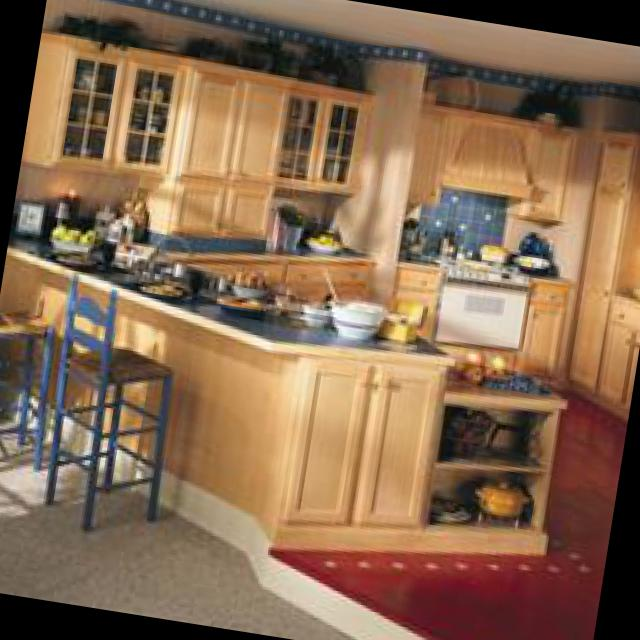bottle crop: (437, 226, 457, 255)
bottles occluded: (92, 196, 131, 238)
bowl -X: (328, 299, 383, 336), (223, 273, 267, 298), (284, 302, 329, 325), (303, 227, 341, 252)
box contants: (371, 294, 424, 340)
cabinet door: (265, 343, 443, 550), (564, 132, 640, 416), (407, 103, 573, 219), (512, 275, 567, 378), (395, 259, 435, 329)
cabinets: (22, 28, 374, 249)
ceiling beam: (186, 0, 640, 88)
chair -occluded-: (38, 274, 168, 532), (0, 302, 51, 467)
coffee maker: (50, 189, 79, 218)
counter bottom: (10, 226, 453, 361), (148, 227, 368, 254), (445, 366, 564, 407)
floor -X: (0, 385, 620, 640)
fruit plate: (48, 223, 94, 254)
oven cloth: (431, 271, 524, 343)
plant -x: (184, 29, 295, 72), (55, 15, 147, 49), (507, 83, 579, 120), (299, 41, 363, 81), (270, 198, 300, 248)
plate food: (132, 276, 192, 304), (212, 293, 274, 314), (431, 495, 469, 521), (49, 251, 98, 266)
pot hanger: (439, 409, 534, 450), (473, 478, 528, 513), (477, 241, 506, 265)
shelf crop: (428, 449, 544, 474)
spoon occluded: (316, 263, 339, 299)
stove burner: (422, 250, 523, 271)
toaster oven: (16, 196, 42, 232)
vase -X: (517, 225, 543, 252)
